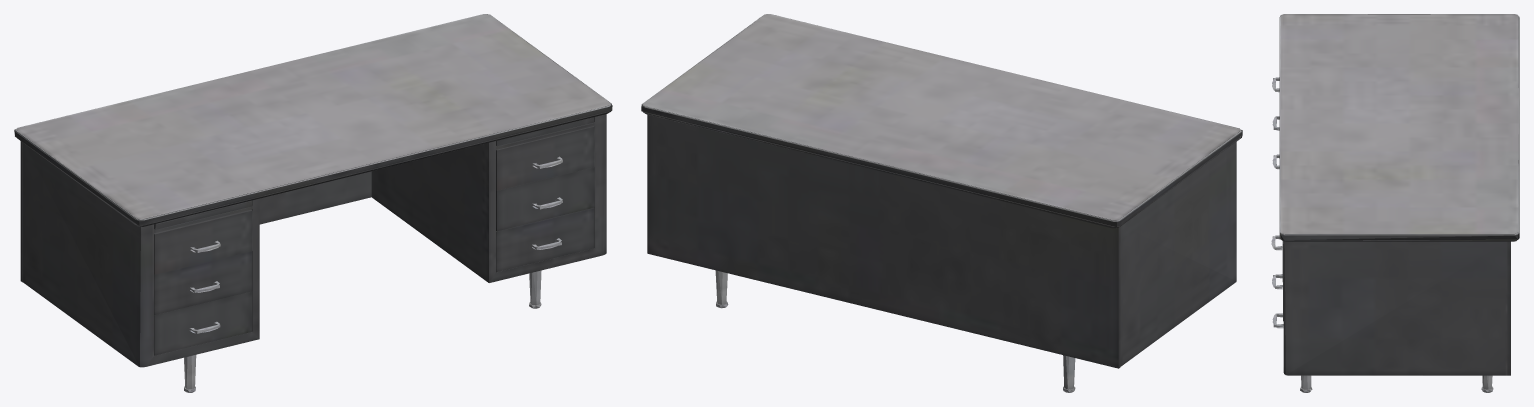
Rendered from metal_office_desk.glb.
3 views of the same model, side by side, from view 1: azimuth 30°, elevation 25°; view 2: azimuth 150°, elevation 25°; view 3: azimuth 270°, elevation 25° (orthographic). The views are drawn at different scales.
Parts seen in each view (by area): view 1: metal_office_desk, metal_office_desk_drawer_04, metal_office_desk_drawer_01, metal_office_desk_drawer_03, metal_office_desk_drawer_02, metal_office_desk_drawer_06, metal_office_desk_drawer_05, metal_office_desk_tray_01, metal_office_desk_tray_02; view 2: metal_office_desk; view 3: metal_office_desk.
Boxes of the visible parts, box(x1,y1,x2,y2) form: metal_office_desk: box(14, 14, 612, 392); metal_office_desk_drawer_04: box(154, 209, 252, 274); metal_office_desk_drawer_01: box(496, 126, 594, 190); metal_office_desk_drawer_03: box(496, 208, 594, 272); metal_office_desk_drawer_02: box(496, 167, 594, 231); metal_office_desk_drawer_06: box(154, 291, 252, 355); metal_office_desk_drawer_05: box(154, 251, 252, 315); metal_office_desk_tray_01: box(154, 200, 252, 229); metal_office_desk_tray_02: box(496, 117, 593, 146); metal_office_desk: box(641, 14, 1242, 392); metal_office_desk: box(1279, 14, 1519, 392).
Bounding box in the file's own units: 2 × 0.7879 × 0.9481.
1 material, 1 textured.
